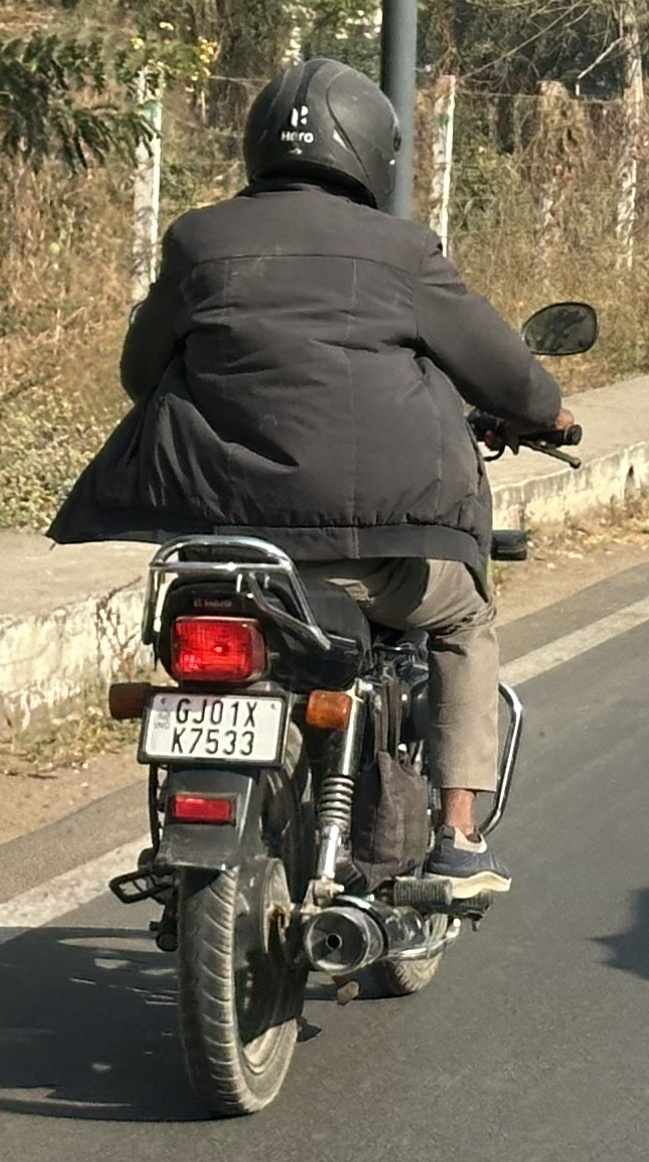BikeWithRider: (29, 40, 610, 1129)
Helmet: (225, 44, 415, 220)
